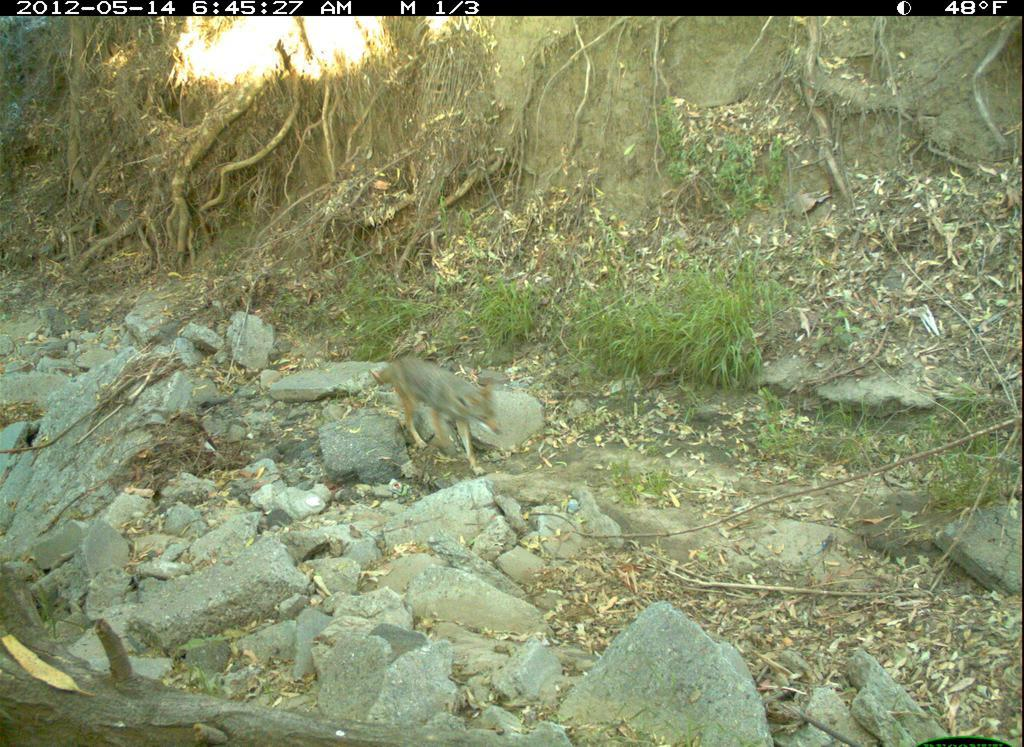coyote: (369, 354, 505, 479)
